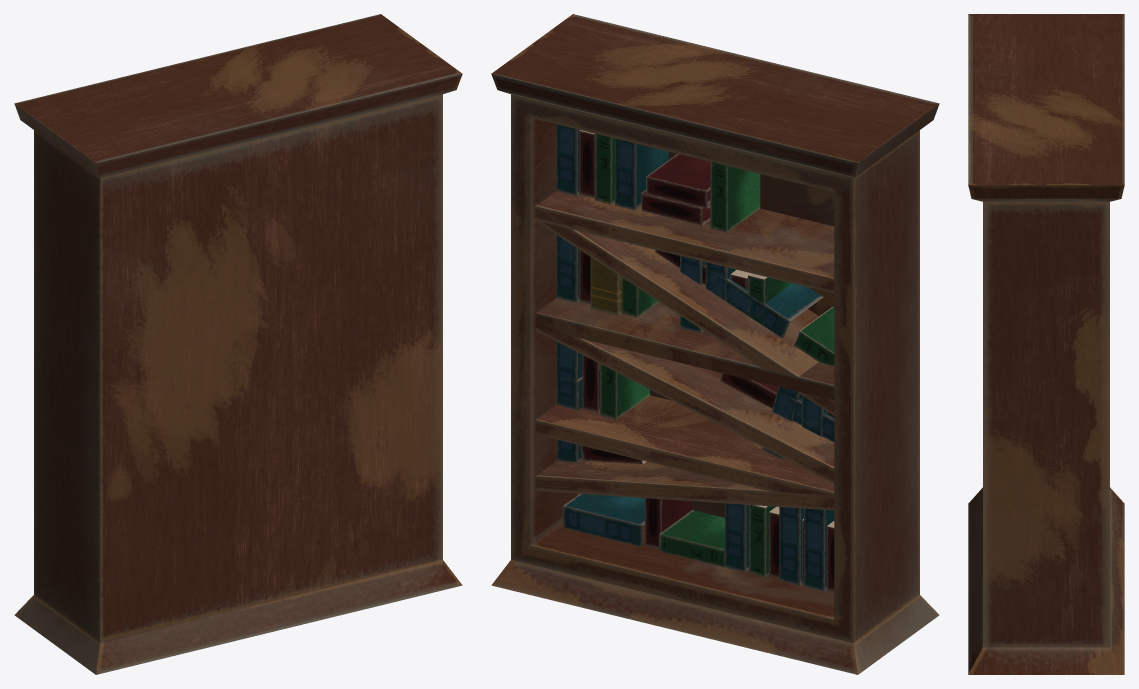
The model's file is Bookshelves.fbx.
The picture shows the model from 3 angles, left to right: view 1: azimuth 30°, elevation 25°; view 2: azimuth 150°, elevation 25°; view 3: azimuth 270°, elevation 25°; orthographic projection. The views are drawn at different scales.
Parts seen in each view (by area): view 1: Book_Shelf_Frame; view 2: Book_Shelf_Frame, Book_Case1_Shelf_1, Book_Case1_Books1, Book_Case_Broken1_Shelf_1, Book_Case_Broken1_Books; view 3: Book_Shelf_Frame.
Boxes of the visible parts, x1=… form: Book_Shelf_Frame: x1=14, y1=14, x2=462, y2=674; Book_Shelf_Frame: x1=491, y1=14, x2=939, y2=674; Book_Case1_Shelf_1: x1=535, y1=191, x2=834, y2=505; Book_Case1_Books1: x1=556, y1=124, x2=834, y2=591; Book_Case_Broken1_Shelf_1: x1=535, y1=208, x2=834, y2=510; Book_Case_Broken1_Books: x1=556, y1=250, x2=834, y2=585; Book_Shelf_Frame: x1=968, y1=14, x2=1124, y2=674.
Size of the model in its own units: 1.5 by 2 by 0.579.
Materials: 1 (1 with a texture image).
